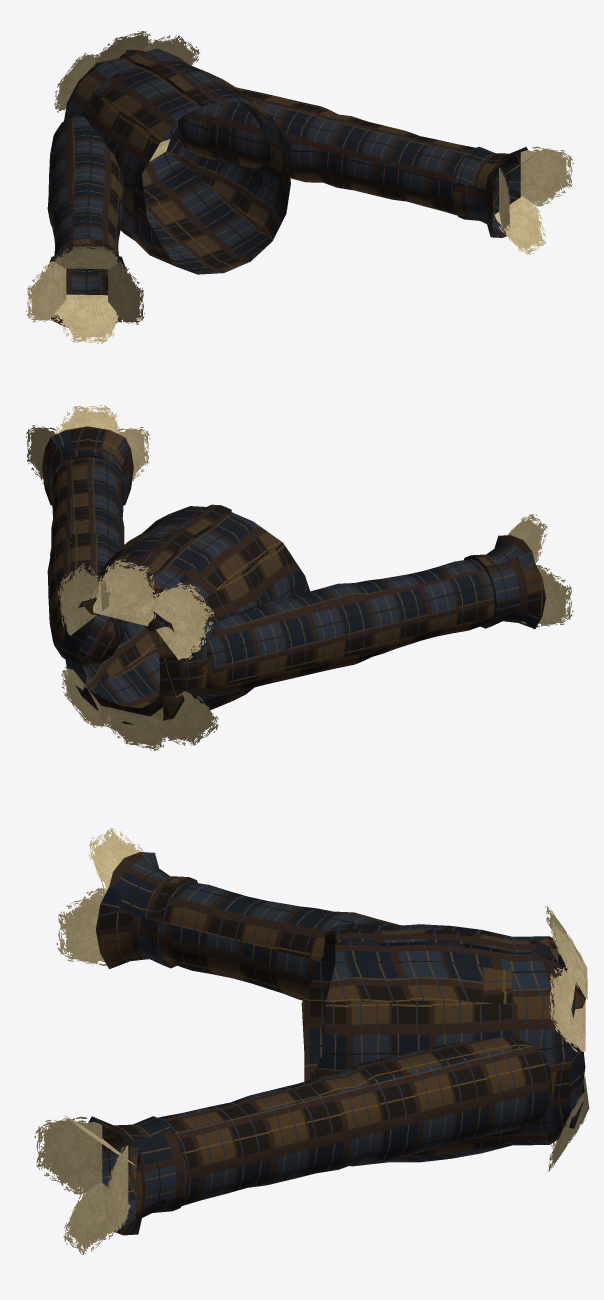
The model's file is item-scarecrow-shirt.glb.
3 renders of one model, top to bottom at view 1: azimuth 30°, elevation 25°; view 2: azimuth 150°, elevation 25°; view 3: azimuth 270°, elevation 25°, orthographic. The views are drawn at different scales.
Bounding box in the file's own units: 0.0255 × 0.00884 × 0.0174.
Materials: 2 (2 with a texture image).
